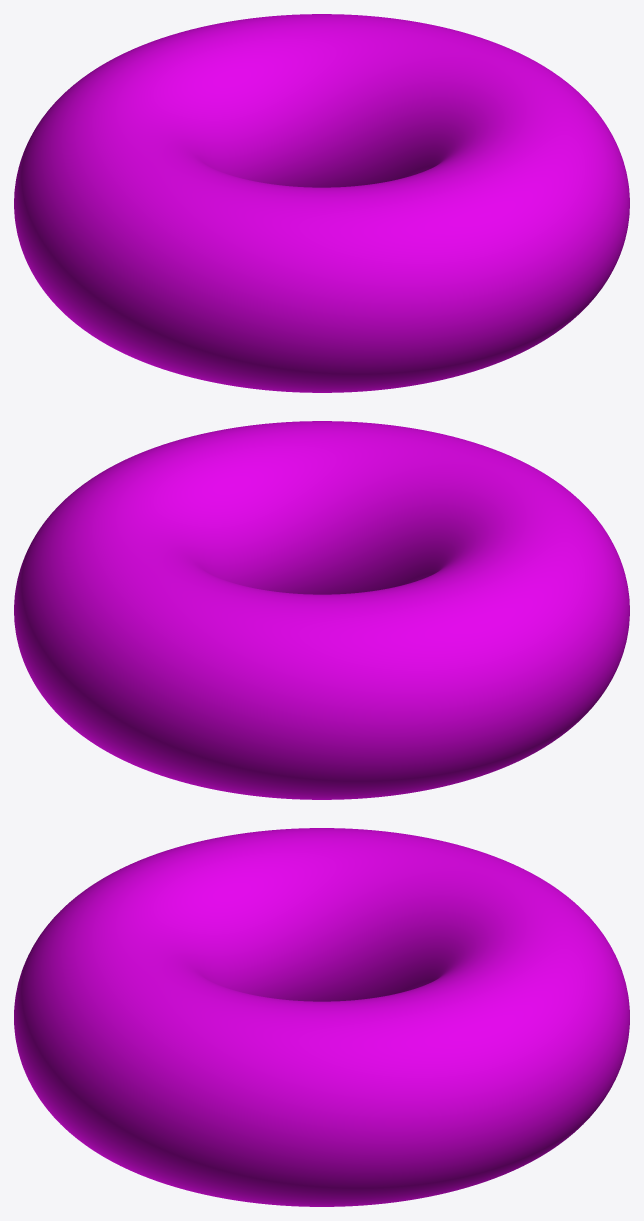
3 renders of one model, top to bottom at view 1: azimuth 30°, elevation 25°; view 2: azimuth 150°, elevation 25°; view 3: azimuth 270°, elevation 25°, orthographic.
Visible parts, largest first — view 1: Torus; view 2: Torus; view 3: Torus.
Boxes of the visible parts, x1,y1,x2,y2 form: Torus: [14, 14, 629, 392]; Torus: [14, 421, 629, 799]; Torus: [14, 828, 629, 1206].
Bounding box in the file's own units: 1.5 × 0.4999 × 1.5.
